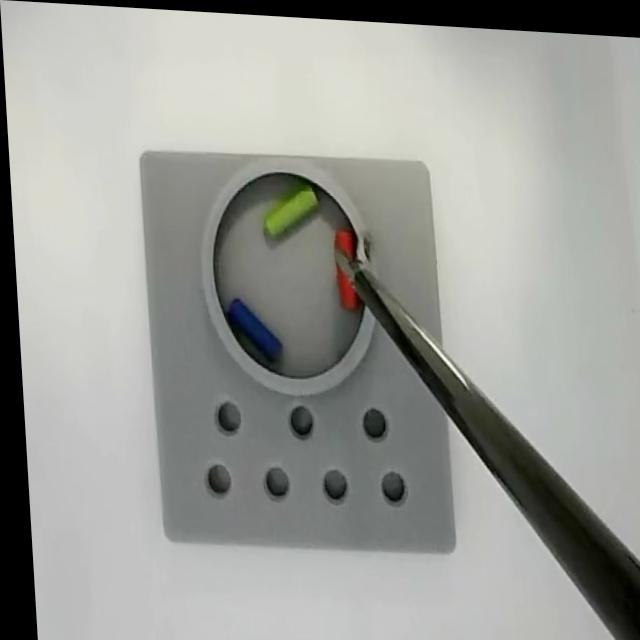EmptyHole: (255, 456, 290, 505), (353, 396, 386, 444), (206, 393, 240, 436), (196, 455, 229, 498), (373, 461, 404, 506), (314, 460, 346, 503), (279, 397, 313, 437)
